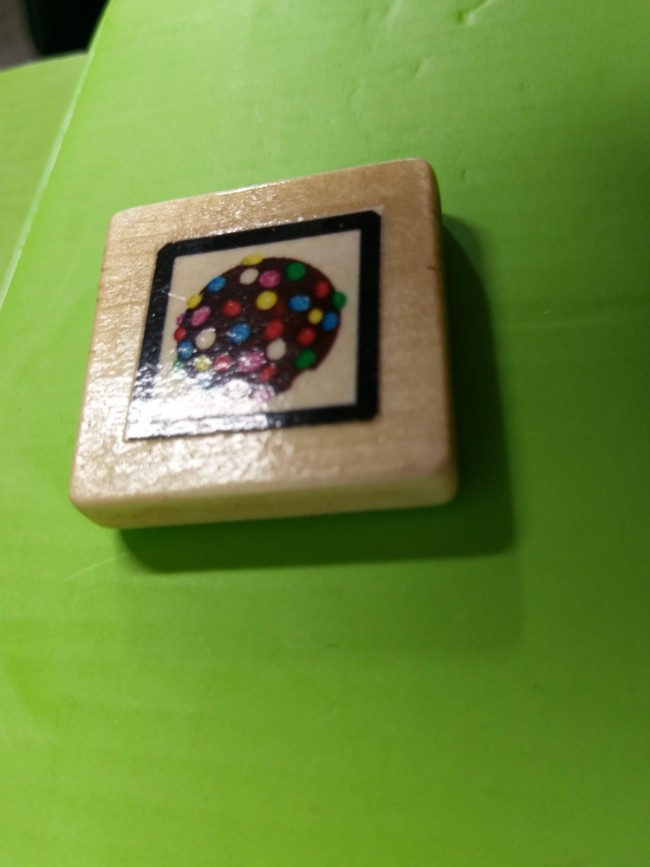cookie: (101, 201, 399, 458)
